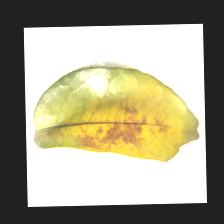black spot: (46, 86, 167, 158)
